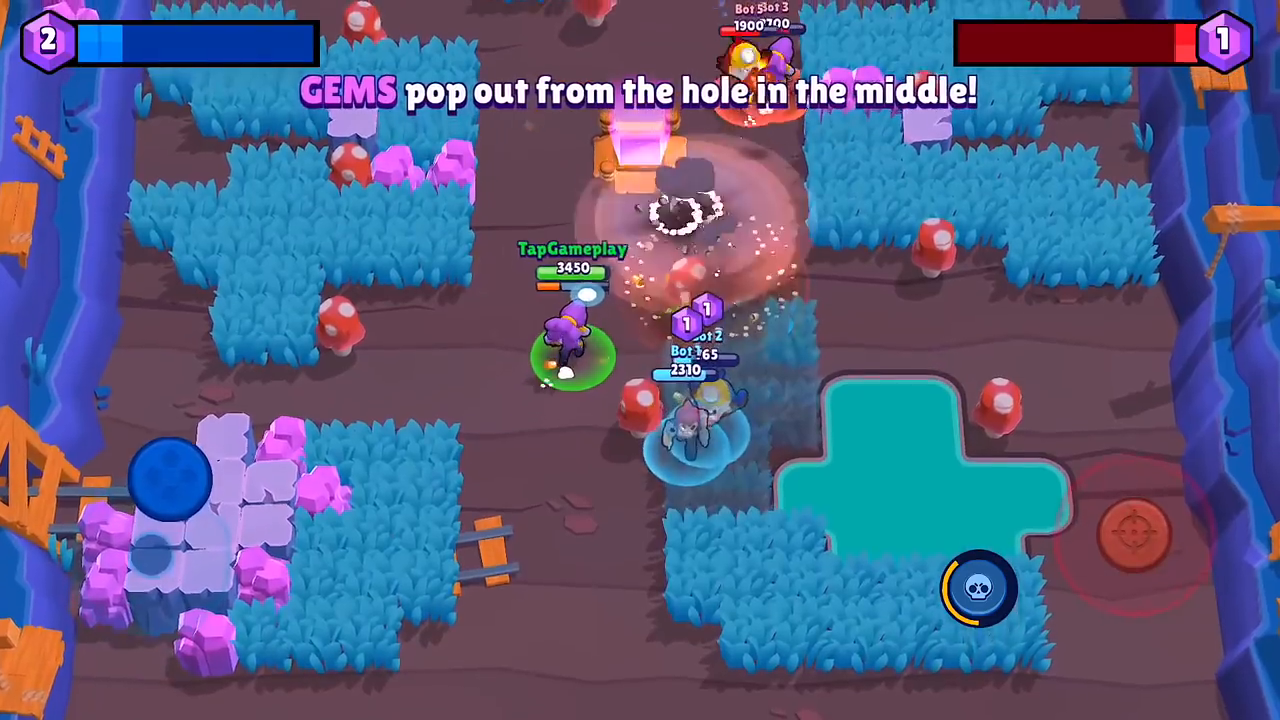move_stick: (122, 433, 221, 520)
red: (710, 19, 814, 133)
